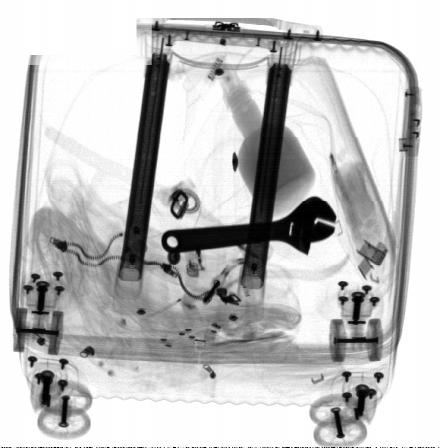Wrench: (161, 195, 337, 256)
